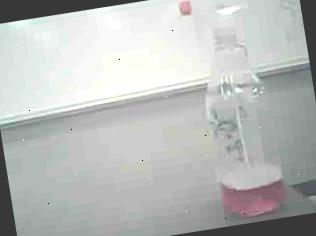hazard: (172, 0, 298, 225)
